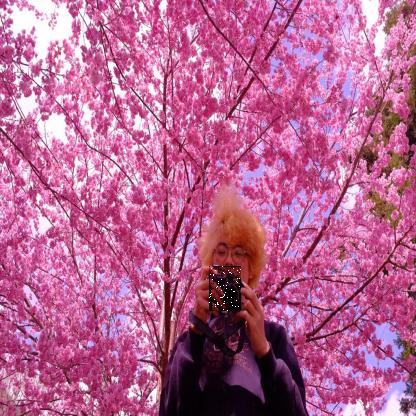Camera: (210, 267, 243, 313)
